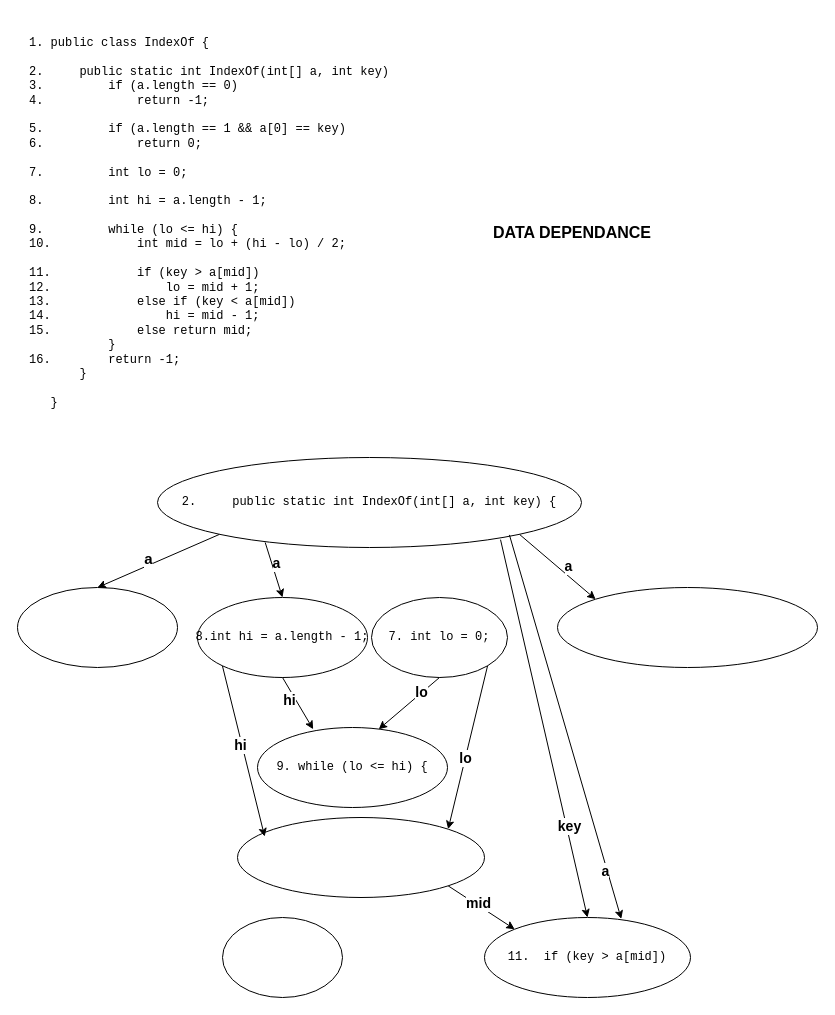
Image size: 835x1015. Some labels were removed from this diagram. Each missing label, with the centre of its shape:
"10. int mid = lo + (hi - lo) / 2;" belongs at (360,857).
"3.if (a.length == 0)" belongs at (97,627).
"5. if (a.length == 1 && a[0] == key)" belongs at (687,627).
